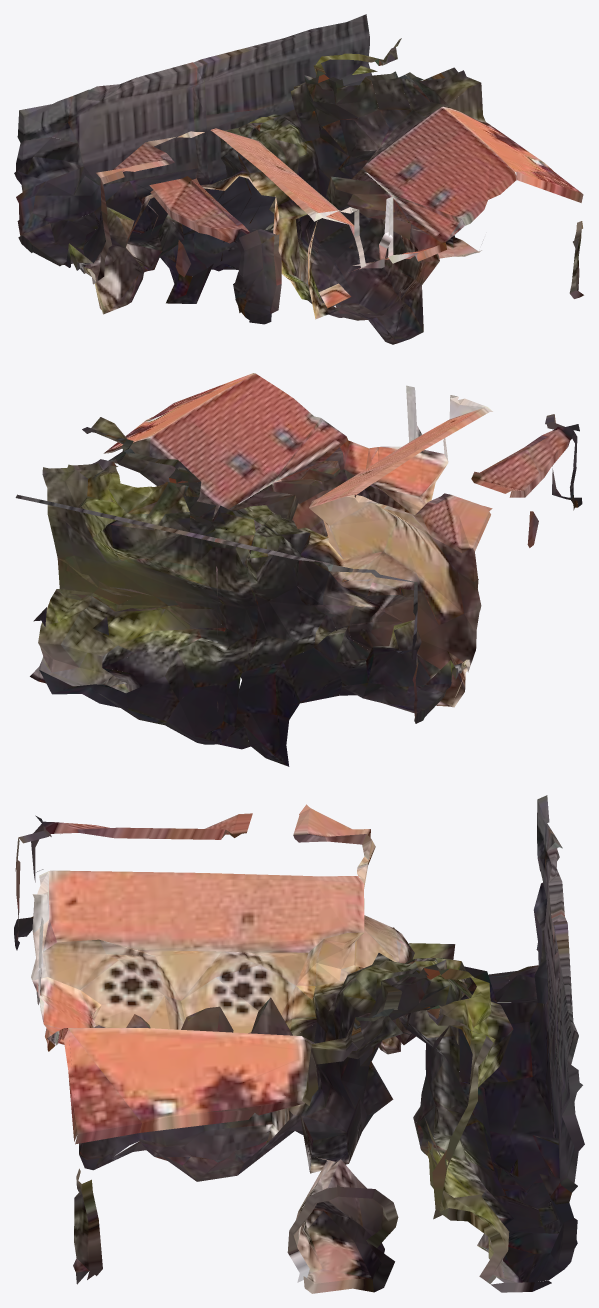
The picture shows the model from 3 angles, top to bottom: view 1: azimuth 30°, elevation 25°; view 2: azimuth 150°, elevation 25°; view 3: azimuth 270°, elevation 25°; orthographic projection. The views are drawn at different scales.
Parts seen in each view (by area): view 1: Mesh_0; view 2: Mesh_0; view 3: Mesh_0.
Boxes of the visible parts, x1,y1,x2,y2 form: Mesh_0: [14, 14, 583, 344]; Mesh_0: [15, 373, 582, 766]; Mesh_0: [14, 795, 584, 1293].
Size of the model in its own units: 32.2 by 16.89 by 29.33.
2 materials, 2 textured.
